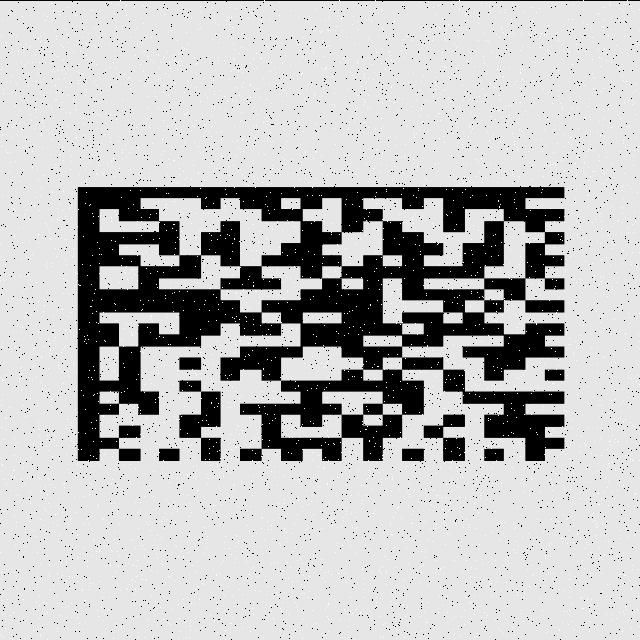datamatrix: (60, 179, 578, 472)
